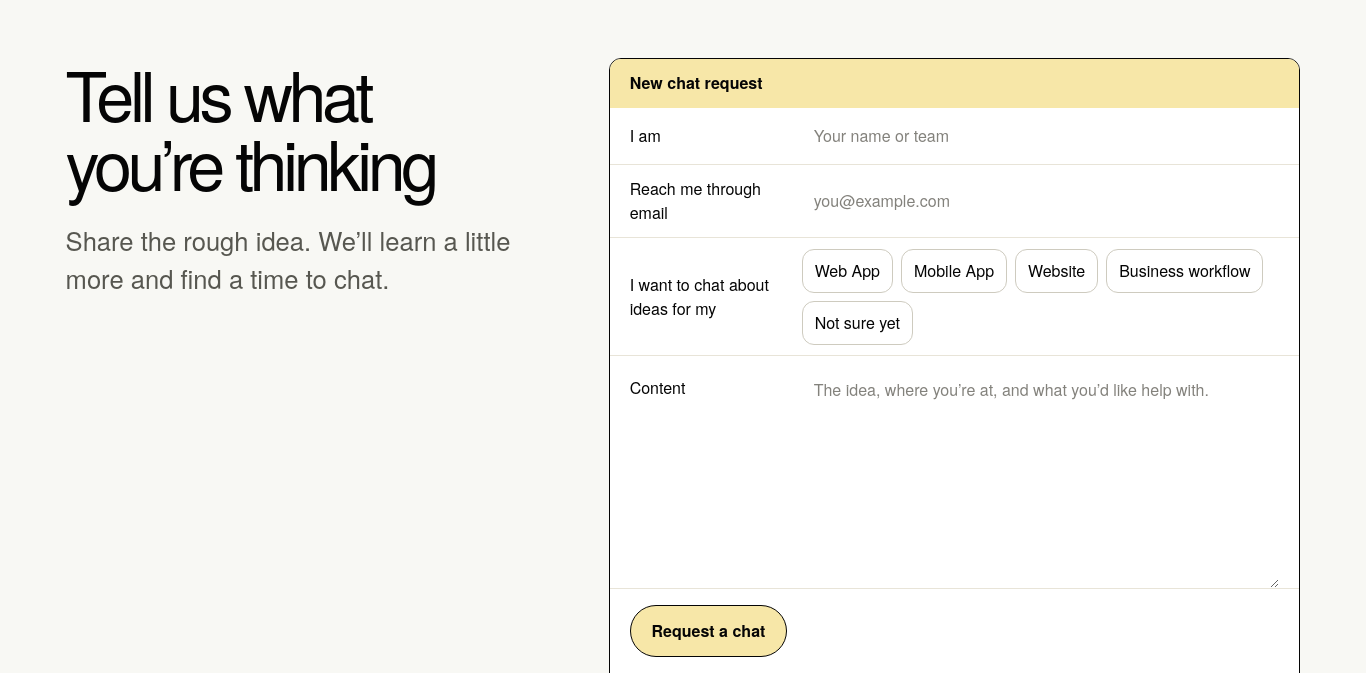
Test: contact form › keeps entries and allows retry when delivery is not confirmed
Type "Test visitor" into the field labelled "I am" at point(1041, 136), box [802,108,1280,164]
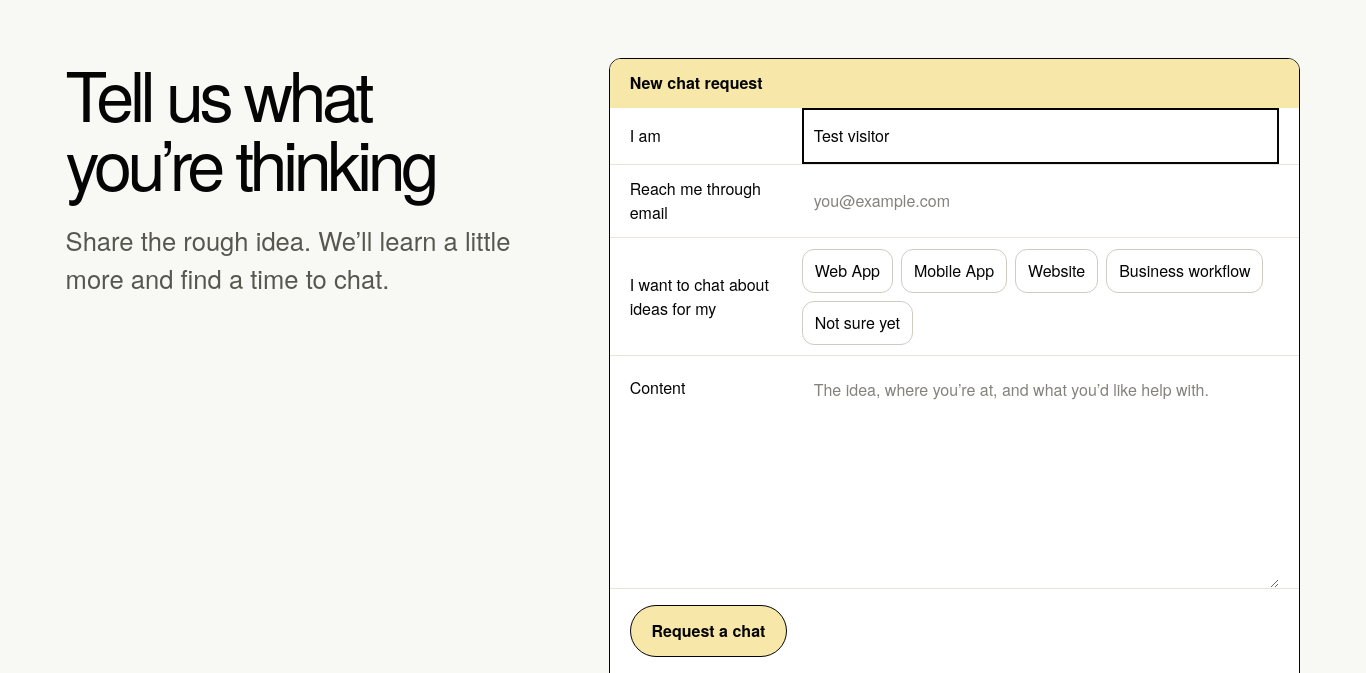
Type "visitor@example.com" into the field labelled "Reach me through email" at point(1041, 201), box [802,173,1280,229]
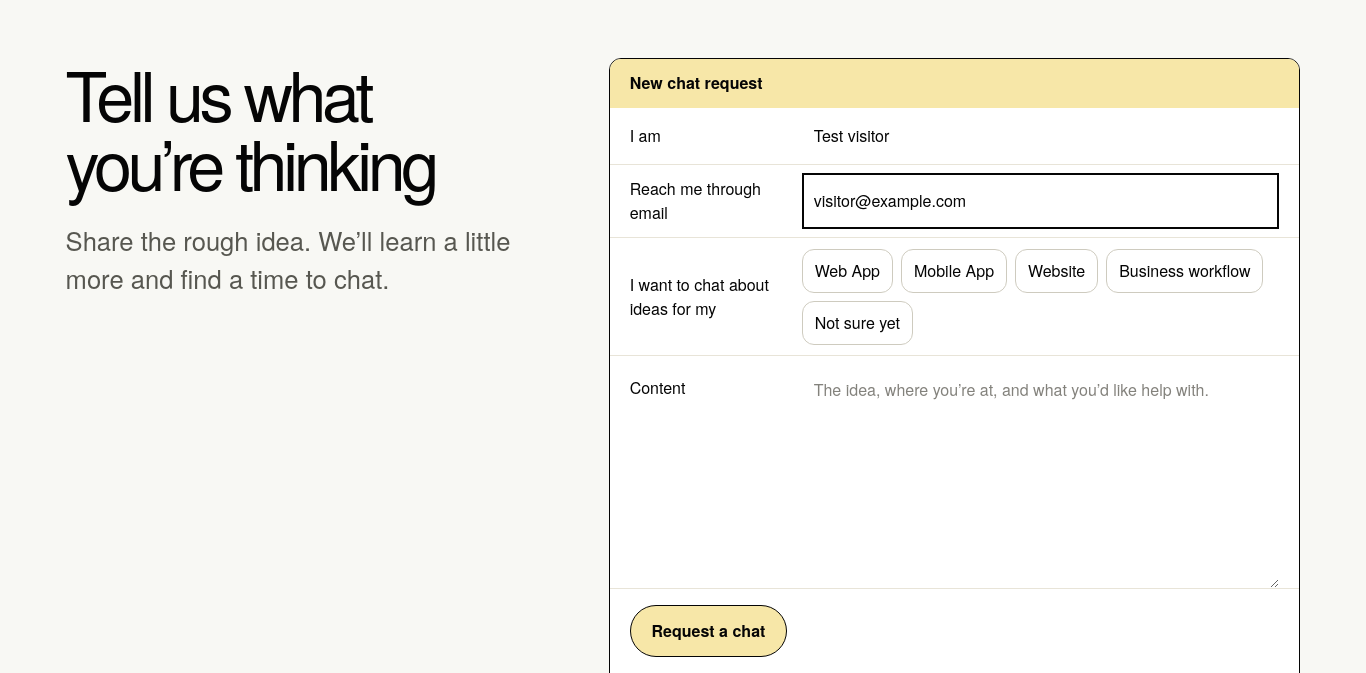
Click the radio button labelled "Website" at point(1057, 271), box [1015,249,1098,293]
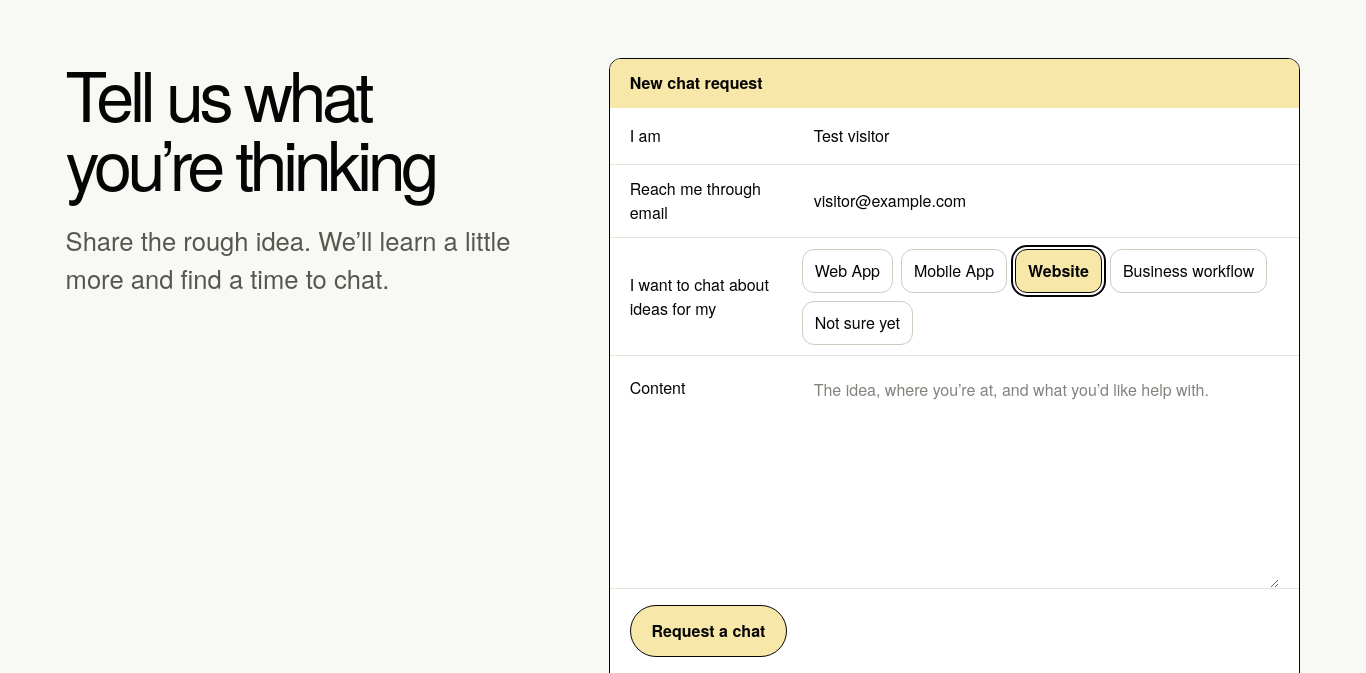
Type "A website for our studio" into the text box labelled "Content" at point(1041, 476), box [802,364,1280,588]
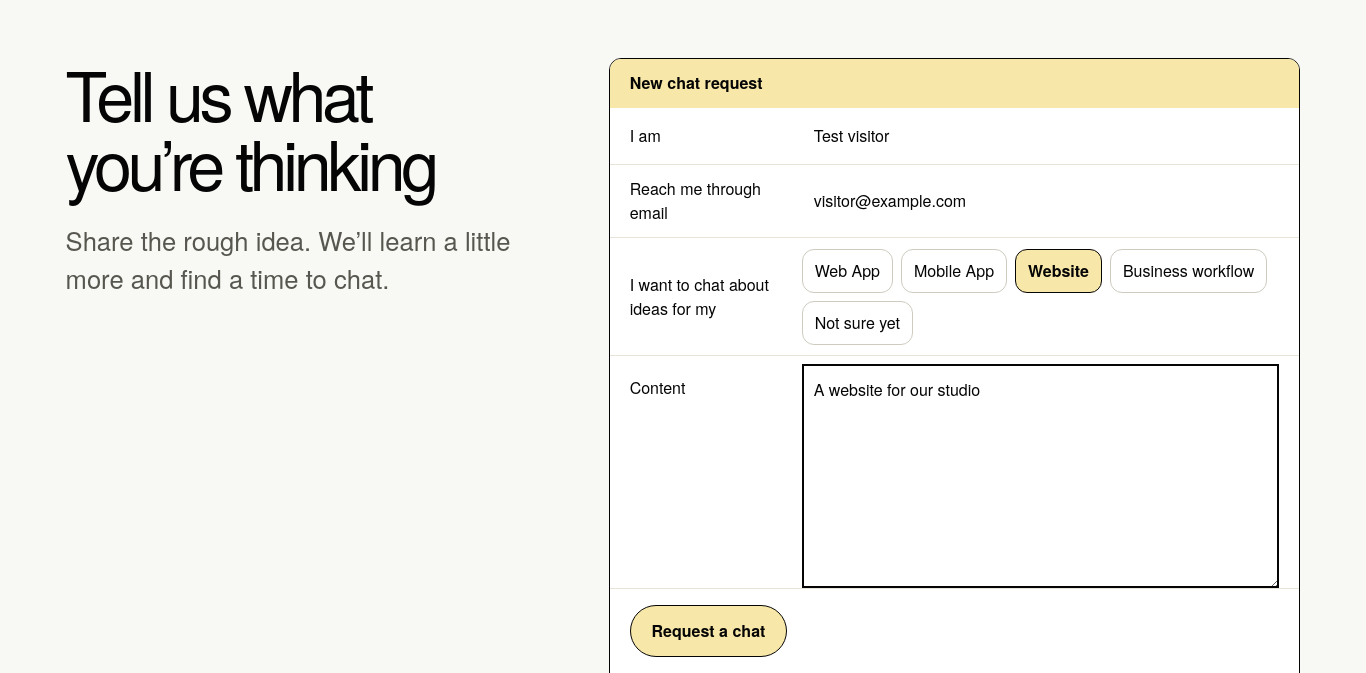
Click the button "Request a chat" at point(708, 631), box [630,605,787,657]
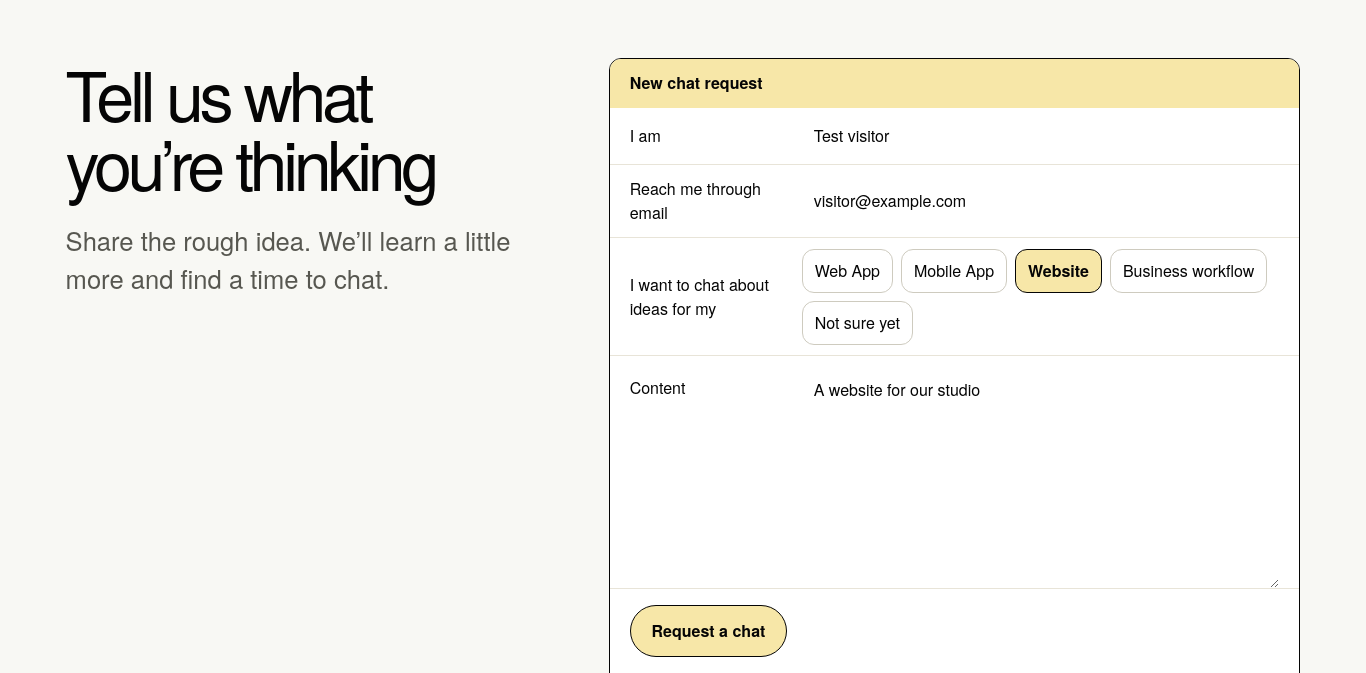
Expected: the radio button labelled "Website" is checked, [1015,249,1102,293]
Click the button "Request a chat" at point(708, 631), box [630,605,787,657]
(page scrolled)
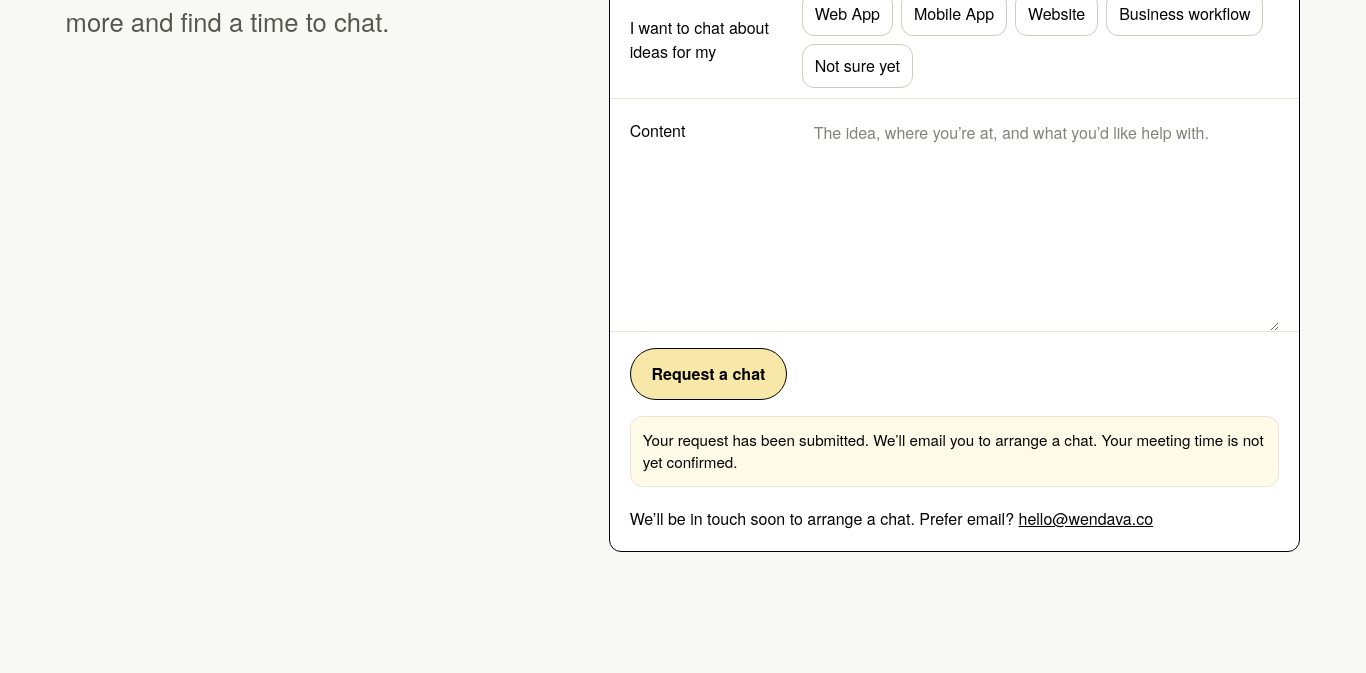
Expected: the message shows "submitted", [643,429,1264,472]
